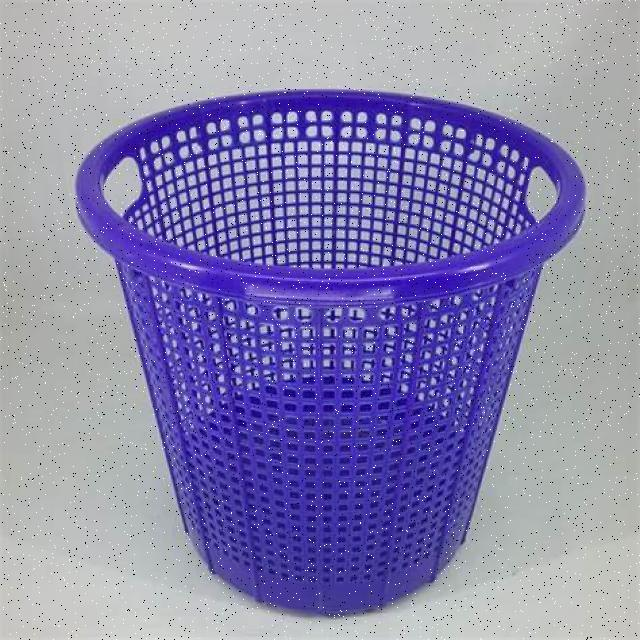garbage container: (55, 71, 592, 624)
